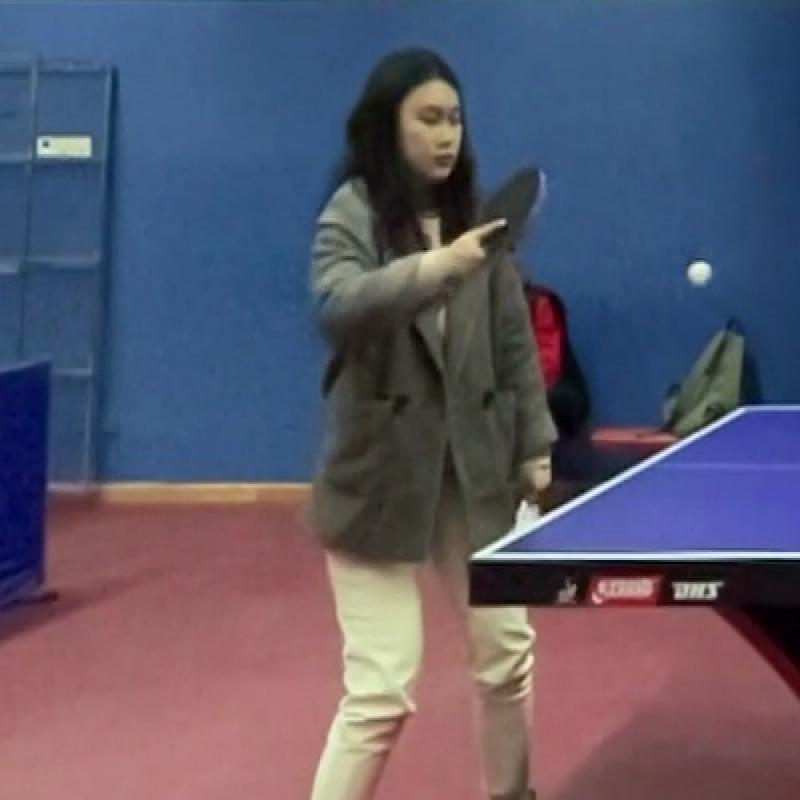bats: (468, 146, 560, 270)
